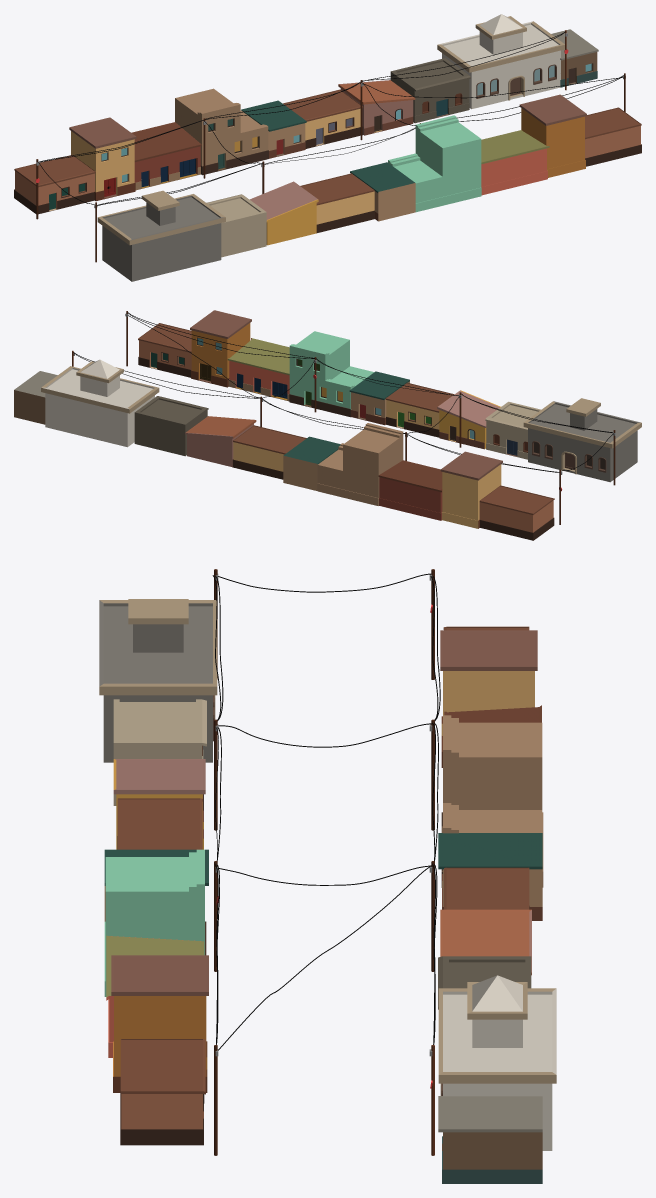
File: caspostes.fbx
3 renders of one model, top to bottom at view 1: azimuth 30°, elevation 25°; view 2: azimuth 150°, elevation 25°; view 3: azimuth 270°, elevation 25°, orthographic. The views are drawn at different scales.
Parts seen in each view (by area): view 1: Cube.018, Cube.015, Cube.024, Cube.010, Cube.001, Cube.028, Cube, Cube.005, Cube.016, Cube.027, Cube.013, Cube.022 (+7 smaller); view 2: Cube.018, Cube.015, Cube.024, Cube.010, Cube.001, Cube.028, Cube, Cube.005, Cube.027, Cube.016, Cube.013, Cube.022 (+7 smaller); view 3: Cube.015, Cube.018, Cube.010, Cube.029, Cube.017, Cube.028, Cube.024, Cube.001, Cube.019, Cube.011, Cube.022, Cube.014 (+6 smaller).
Boxes of the visible parts, x1,y1,x2,y2 form: Cube.018: (97,190,225,281); Cube.015: (437,14,564,109); Cube.024: (388,115,481,212); Cube.010: (175,88,268,175); Cube.001: (69,117,136,201); Cube.028: (519,94,586,177); Cube: (14,155,95,214); Cube.005: (131,122,201,190); Cube.016: (390,58,470,123); Cube.027: (481,130,549,195); Cube.013: (283,89,363,148); Cube.022: (300,173,374,232); Cube.018: (523,398,641,482); Cube.015: (41,359,159,447); Cube.024: (289,331,374,417); Cube.010: (317,423,403,505); Cube.001: (440,451,502,528); Cube.028: (190,310,251,387); Cube: (479,485,554,540); Cube.005: (378,460,442,520); Cube.027: (227,338,289,401); Cube.016: (134,396,208,456); Cube.013: (232,425,306,479); Cube.022: (385,382,454,437); Cube.015: (438,975,556,1150); Cube.018: (99,599,217,762); Cube.010: (441,715,543,887); Cube.029: (120,1039,205,1145); Cube.017: (438,1096,542,1183); Cube.028: (111,955,208,1092); Cube.024: (104,849,206,996); Cube.001: (440,630,537,767); Cube.019: (113,699,206,805); Cube.011: (438,833,542,920); Cube.022: (117,798,202,849); Cube.014: (440,909,531,975).
Size of the model in its own units: 7491 by 945 by 2848.
